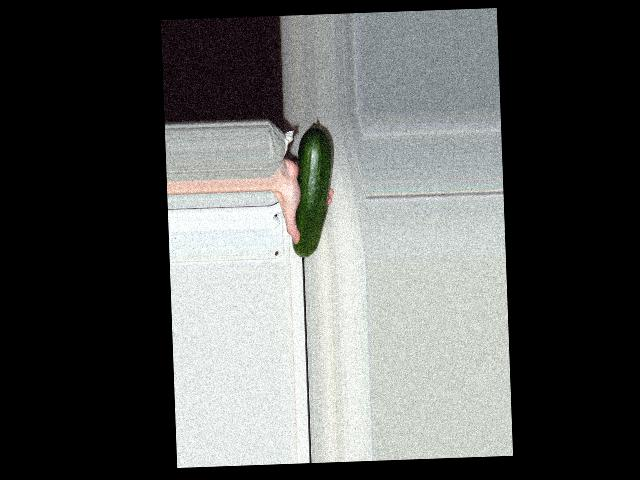cucumber: (288, 122, 337, 257)
